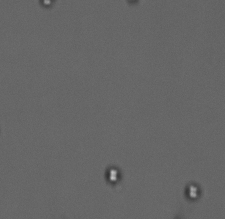Living Cell: (103, 164, 122, 185), (183, 182, 202, 200), (38, 1, 55, 6)
